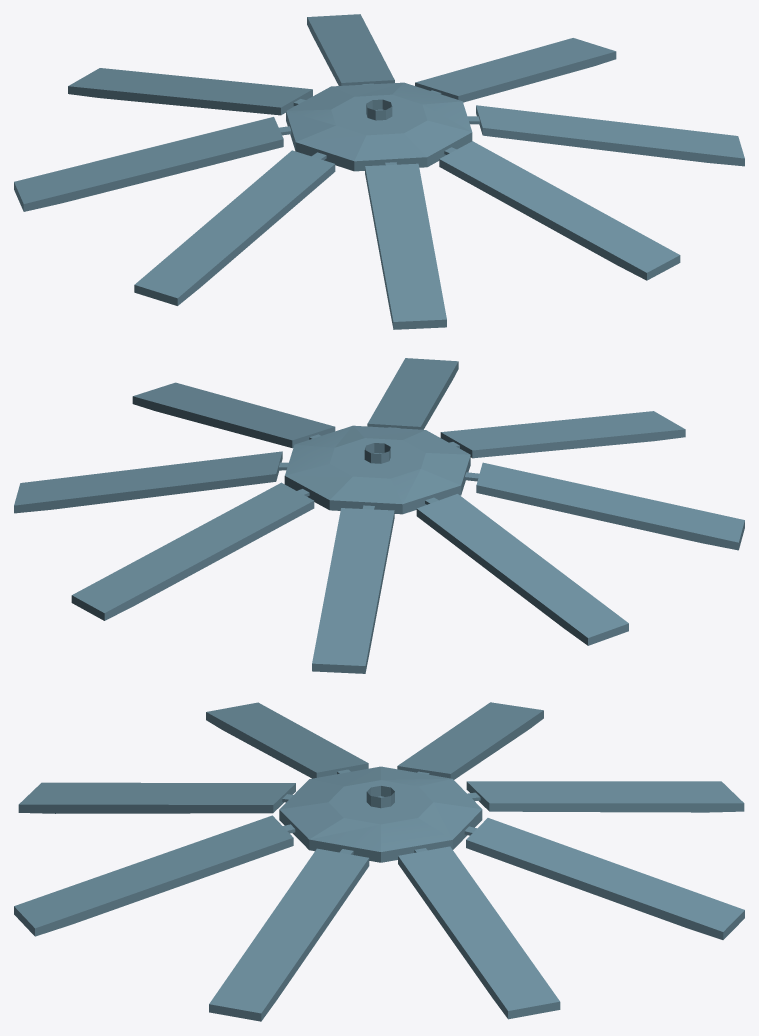
File: ceiling_fan2.glb
3 views of the same model, one above another, from view 1: azimuth 30°, elevation 25°; view 2: azimuth 150°, elevation 25°; view 3: azimuth 270°, elevation 25° (orthographic). The views are drawn at different scales.
Parts seen in each view (by area): view 1: ceiling_fan; view 2: ceiling_fan; view 3: ceiling_fan.
Boxes of the visible parts, left/top/right/bottom form: ceiling_fan: left=14, top=14, right=744, bottom=329; ceiling_fan: left=14, top=358, right=744, bottom=673; ceiling_fan: left=14, top=702, right=744, bottom=1021.
Size of the model in its own units: 6.6 by 0.7384 by 6.55.
